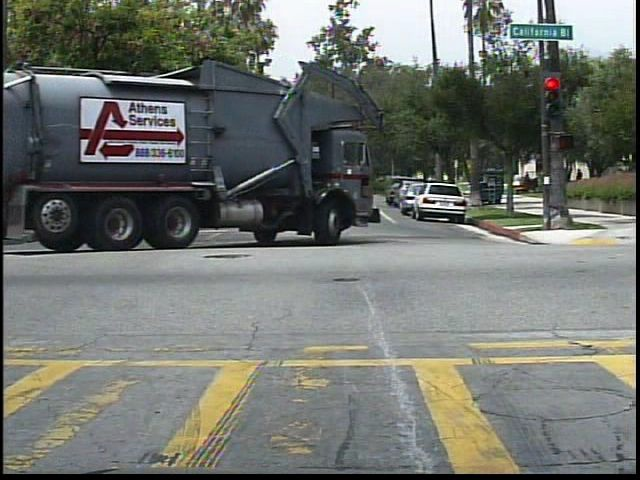person: (572, 164, 590, 194)
